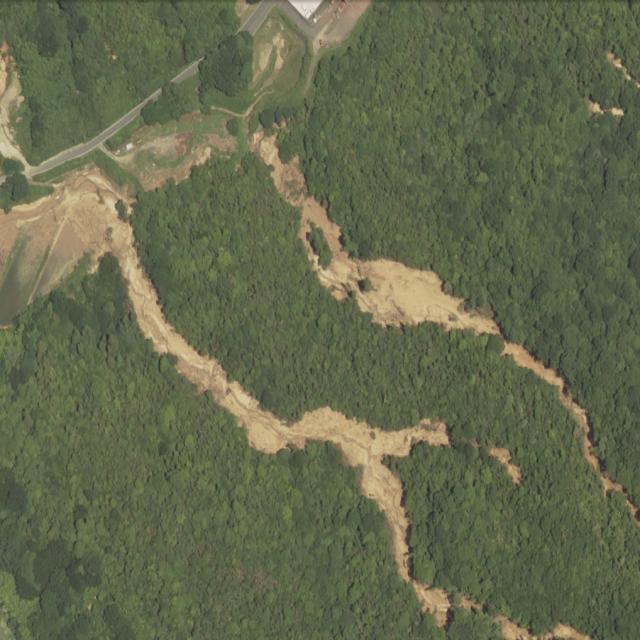landslide: (0, 169, 450, 582), (252, 136, 501, 335), (505, 342, 599, 465), (414, 580, 451, 628), (495, 617, 532, 640), (543, 624, 591, 640)
